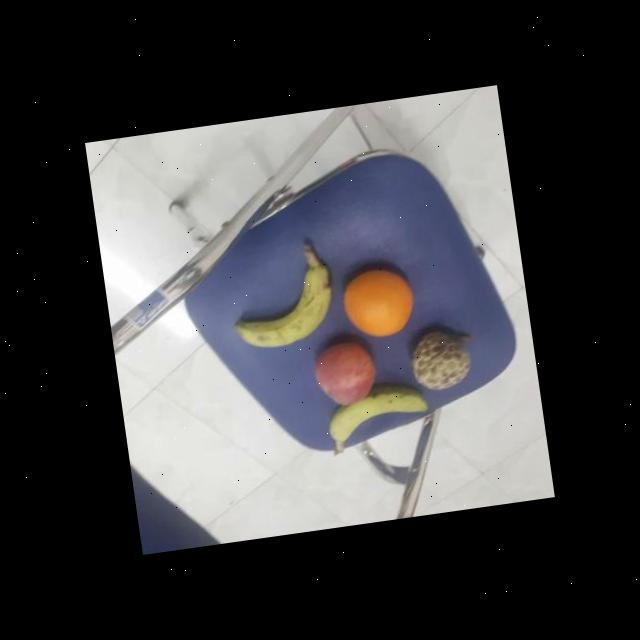Sakya fruit: (406, 323, 474, 394)
apple: (306, 338, 380, 412)
banana: (226, 263, 340, 355), (322, 381, 432, 447)
orange: (338, 260, 419, 342)
